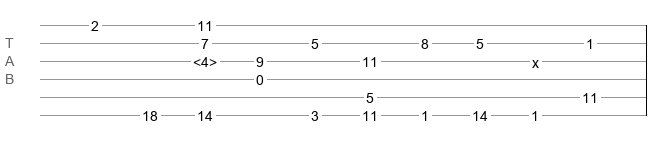0: (256, 72, 264, 82)
1: (421, 108, 429, 118), (531, 108, 539, 118), (586, 36, 594, 46)
11: (197, 18, 213, 28), (362, 108, 378, 118), (362, 54, 378, 64), (582, 90, 598, 100)
14: (197, 108, 213, 118), (472, 108, 488, 118)
18: (142, 108, 158, 118)
2: (91, 18, 99, 28)
3: (311, 108, 319, 118)
5: (311, 36, 319, 46), (366, 90, 374, 100), (476, 36, 484, 46)
7: (201, 36, 209, 46)
8: (421, 36, 429, 46)
9: (256, 54, 264, 64)
harmonic: (193, 54, 217, 64)
x: (532, 55, 539, 63)
